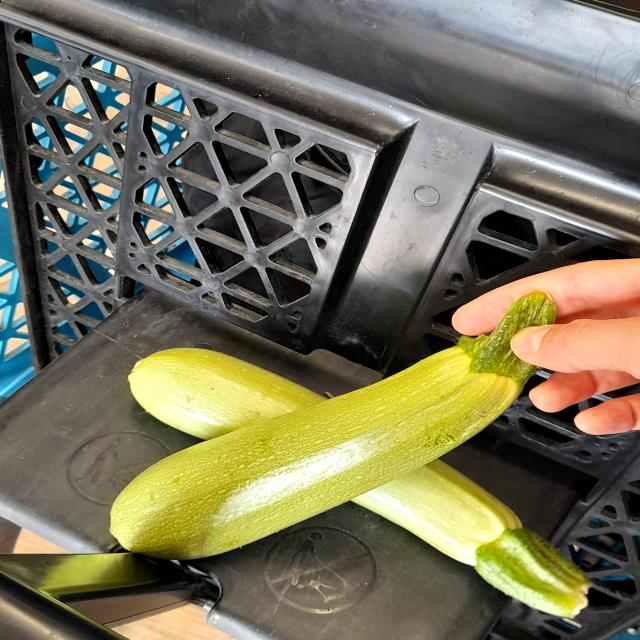zucchini: (122, 333, 599, 628), (106, 285, 572, 566)
